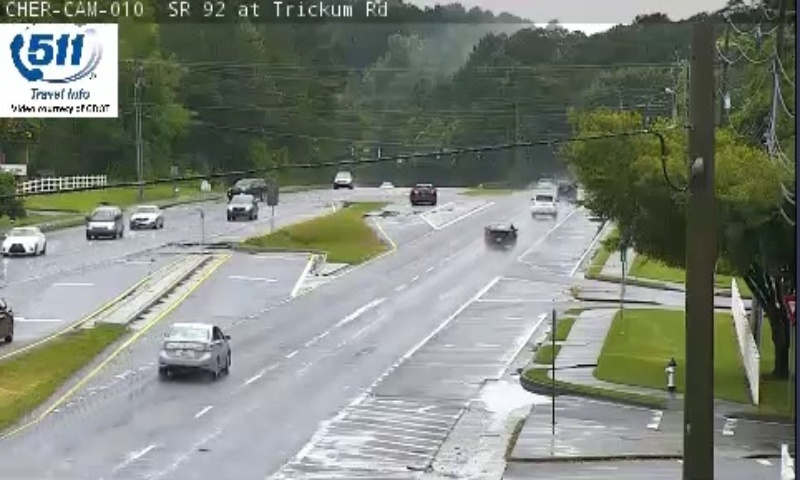car: (158, 324, 229, 374), (484, 221, 518, 249), (529, 193, 557, 216)
